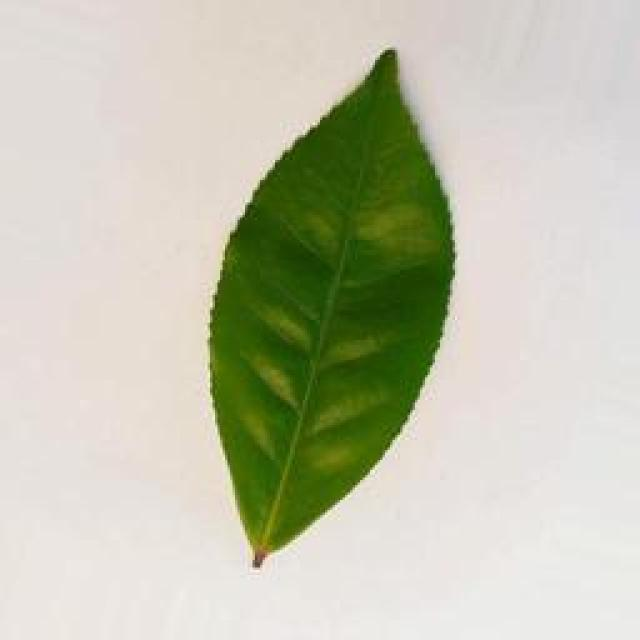Healthy: (200, 50, 460, 574)
